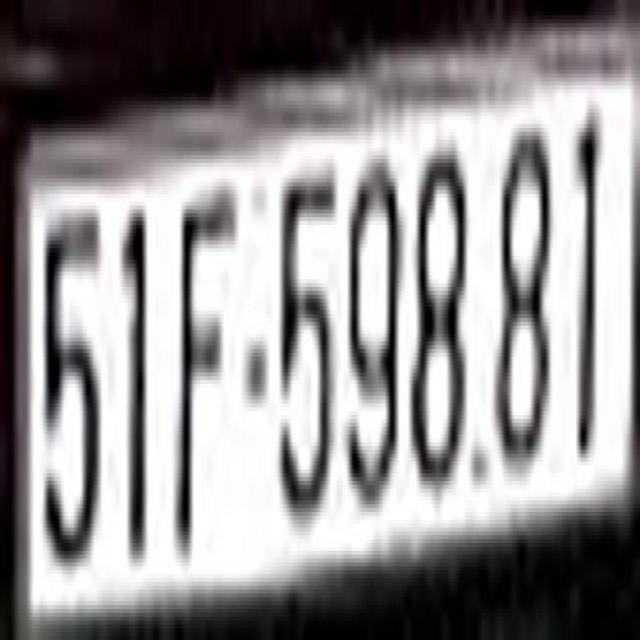1: (116, 198, 150, 554), (578, 112, 600, 474)
5: (42, 225, 100, 562), (280, 182, 332, 493)
8: (412, 136, 466, 477), (497, 128, 550, 458)
9: (348, 162, 394, 474)
F: (183, 194, 234, 547)
